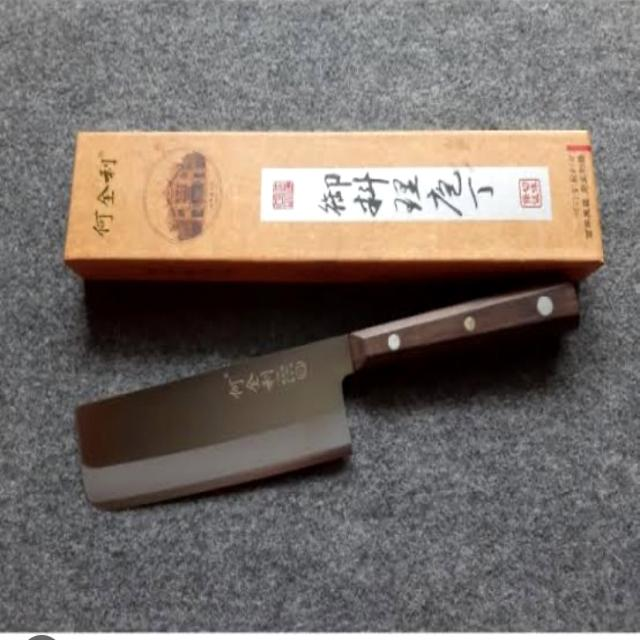knife: (70, 278, 600, 520)
